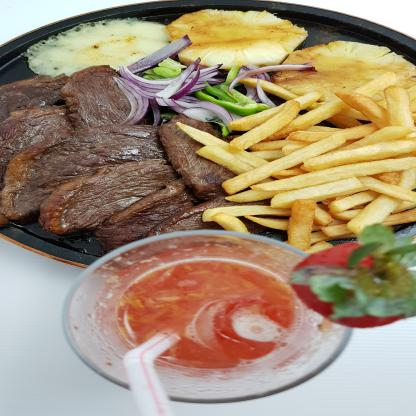Carne: (10, 125, 160, 229), (44, 161, 166, 237), (52, 64, 157, 138), (84, 187, 218, 230), (0, 74, 61, 163), (142, 122, 206, 187)
